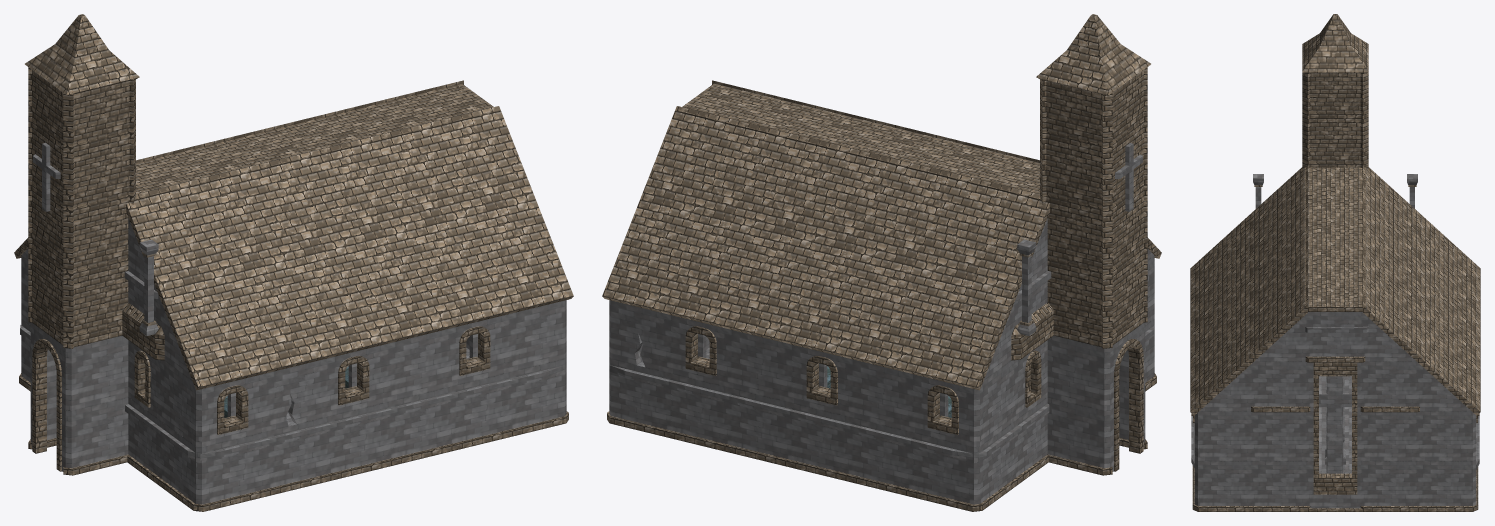
File: church.fbx
The picture shows the model from 3 angles, left to right: view 1: azimuth 30°, elevation 25°; view 2: azimuth 150°, elevation 25°; view 3: azimuth 270°, elevation 25°; orthographic projection. The views are drawn at different scales.
Parts seen in each view (by area): view 1: roof_halfLarge (×12), wall_border (×10), wall_edgesBorders (×8), wall (×4), roof_flat (×6), window_rounded (×3), roof_pointHigh, cornice_shallow (×2), wall_destroyedCrack, doorway_wideRound, doorway_sideVertical (×2), window_roundedHigh (+3 smaller); view 2: roof_halfLarge (×12), wall_border (×10), wall_edgesBorders (×8), wall (×4), roof_flat (×6), window_rounded (×3), roof_pointHigh, cornice_shallow (×2), wall_destroyedCrack, doorway_wideRound, doorway_sideVertical (×2), window_roundedHigh (+3 smaller); view 3: roof_halfLarge (×24), wall_border (×8), wall (×4), roof_flat (×6), wall_edgesBorders (×2), wall_slope (×4), window_squareLarge, roof_pointHigh, cornice_shallow (×2), floor.
Part boxes in pixels (x1,y1,x2,y2): roof_halfLarge (×12): [126, 106, 573, 390]; wall_border (×10): [28, 359, 568, 511]; wall_edgesBorders (×8): [32, 70, 133, 348]; wall (×4): [71, 300, 566, 447]; roof_flat (×6): [134, 83, 495, 200]; window_rounded (×3): [202, 315, 504, 447]; roof_pointHigh: [25, 14, 139, 95]; cornice_shallow (×2): [125, 366, 563, 460]; wall_destroyedCrack: [262, 359, 322, 432]; doorway_wideRound: [30, 322, 71, 411]; doorway_sideVertical (×2): [30, 385, 71, 471]; window_roundedHigh: [128, 340, 160, 420]; roof_halfLarge (×12): [602, 106, 1049, 390]; wall_border (×10): [607, 359, 1147, 511]; wall_edgesBorders (×8): [1042, 70, 1143, 348]; wall (×4): [732, 330, 1104, 447]; roof_flat (×6): [680, 83, 1041, 200]; window_rounded (×3): [671, 315, 973, 447]; roof_pointHigh: [1036, 14, 1150, 95]; cornice_shallow (×2): [609, 365, 1049, 460]; wall_destroyedCrack: [611, 300, 671, 373]; doorway_wideRound: [1104, 322, 1145, 411]; doorway_sideVertical (×2): [1104, 385, 1145, 471]; window_roundedHigh: [1015, 340, 1047, 420]; roof_halfLarge (×24): [1190, 166, 1480, 415]; wall_border (×8): [1192, 312, 1478, 511]; wall (×4): [1194, 411, 1476, 461]; roof_flat (×6): [1304, 167, 1366, 311]; wall_edgesBorders (×2): [1302, 69, 1368, 168]; wall_slope (×4): [1199, 313, 1471, 411]; window_squareLarge: [1308, 362, 1362, 494]; roof_pointHigh: [1302, 14, 1368, 73]; cornice_shallow (×2): [1305, 326, 1368, 473]; floor: [1319, 376, 1351, 473].
Bounding box in the file's own units: 72.28 × 69.06 × 52.83.
